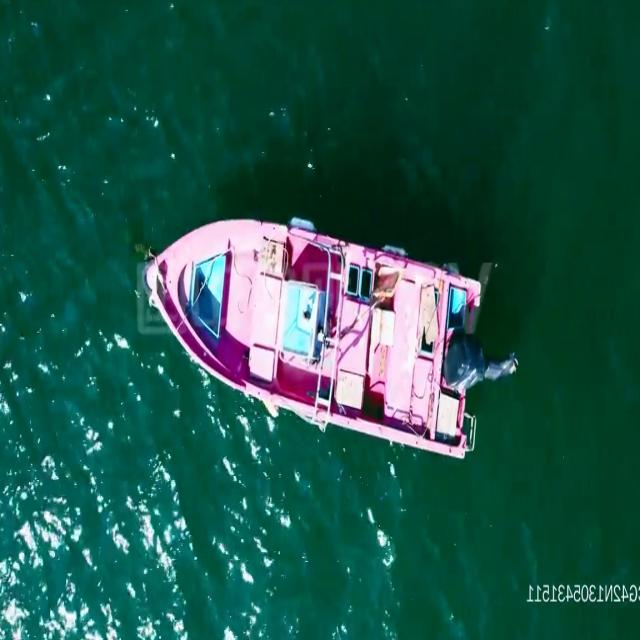houseboat: (146, 212, 483, 459)
